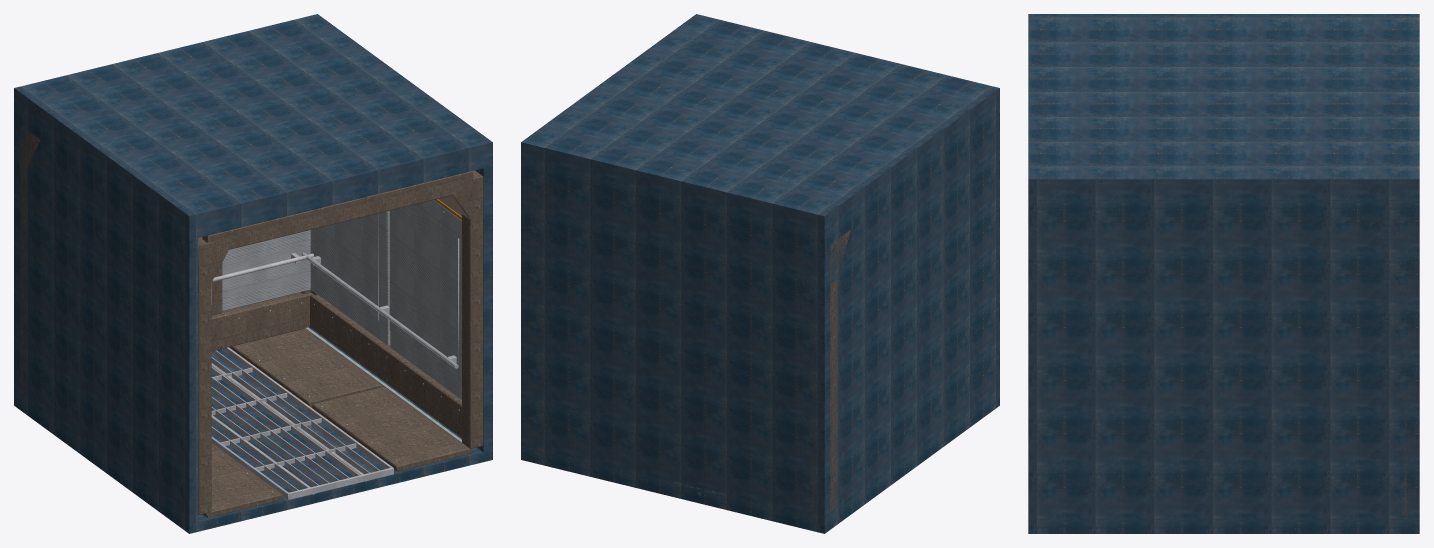
Rendered from Corridor_End.fbx.
3 views of the same model, side by side, from view 1: azimuth 30°, elevation 25°; view 2: azimuth 150°, elevation 25°; view 3: azimuth 270°, elevation 25° (orthographic). The views are drawn at different scales.
Parts seen in each view (by area): view 1: Corridor_End.001; view 2: Corridor_End.001; view 3: Corridor_End.001.
Part boxes in pixels (x1=…): Corridor_End.001: x1=14, y1=14, x2=492, y2=533; Corridor_End.001: x1=521, y1=14, x2=999, y2=533; Corridor_End.001: x1=1028, y1=14, x2=1419, y2=533.
Bounding box in the file's own units: 4 × 4 × 4.
6 materials, 6 textured.
